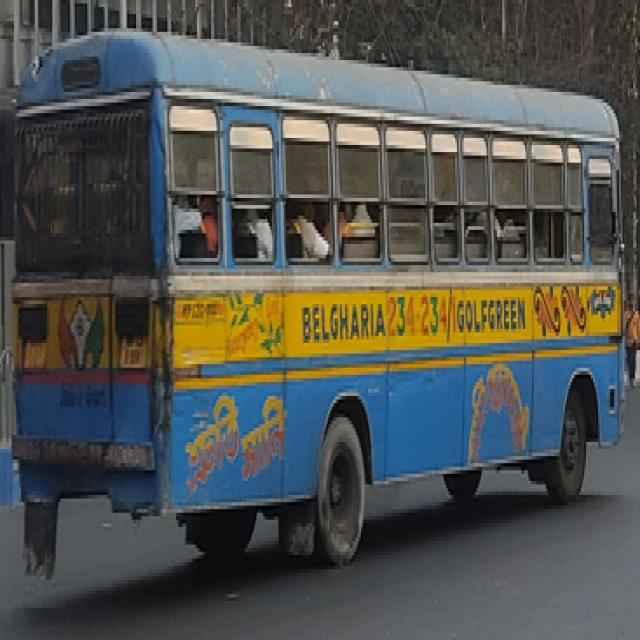bus: (14, 29, 628, 576)
